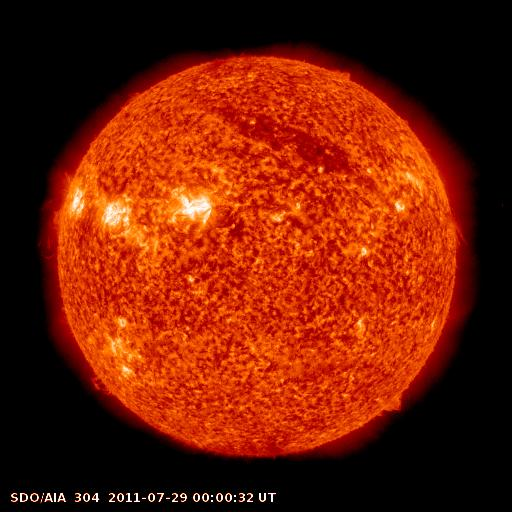prominence: (36, 165, 75, 264), (77, 366, 123, 405), (371, 384, 406, 427)
